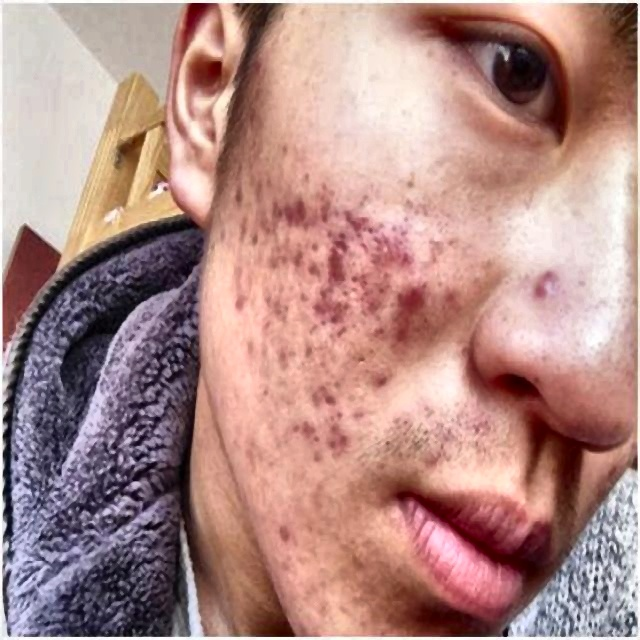pustule: (344, 200, 377, 242), (284, 192, 310, 240), (329, 289, 352, 342), (528, 265, 558, 300), (328, 234, 352, 277), (361, 278, 382, 322), (390, 317, 416, 351), (374, 368, 398, 404), (326, 423, 348, 459), (266, 289, 286, 325), (314, 375, 335, 408), (294, 417, 316, 448), (398, 282, 421, 308), (437, 277, 459, 303), (400, 232, 415, 268), (227, 289, 251, 311), (312, 289, 327, 323), (379, 234, 391, 266), (257, 212, 274, 230)
